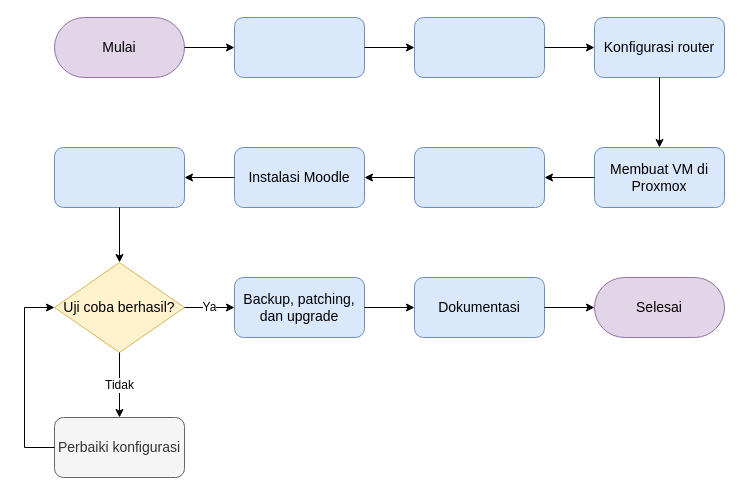
The diagram is 742 pixels wide and 495 high, and some of its shapes have lost their labels. The centre of each missing label's shape, as x and y in pixels:
"Konfigurasi load balancer" belongs at [119,177].
"Konfigurasi web dan database" belongs at [479,177].
"Membuat topologi" belongs at [299,47].
"Menyiapkan alat dan bahan" belongs at [479,47].
